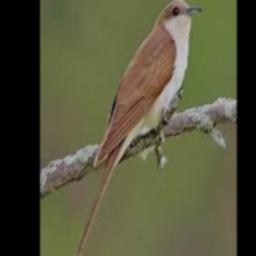Cuckoo: (69, 0, 203, 256)
